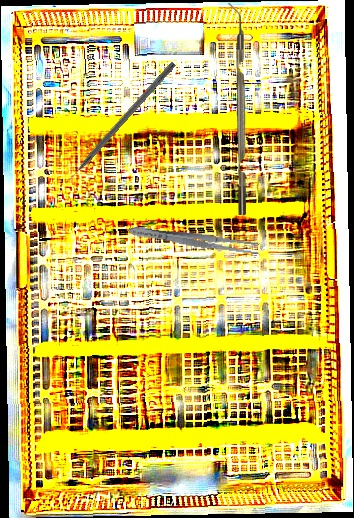Chopper: (228, 3, 246, 215)
Dressing Forceps: (128, 222, 260, 257)
Hook Surgical: (61, 60, 177, 186)
